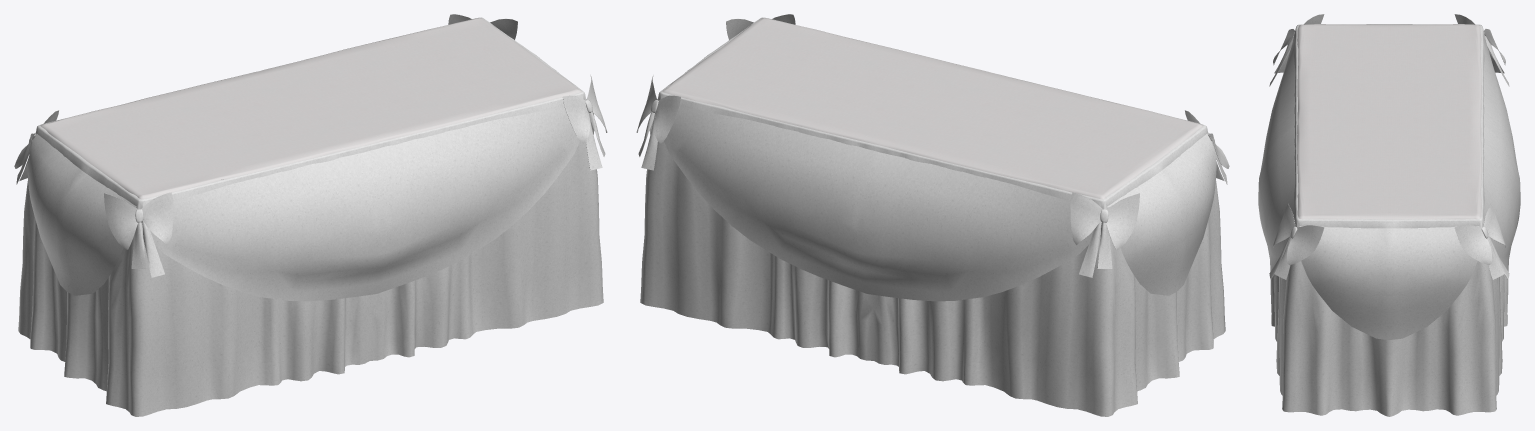
The model's file is EventTable01Cloth04_2.FBX.
The picture shows the model from 3 angles, left to right: view 1: azimuth 30°, elevation 25°; view 2: azimuth 150°, elevation 25°; view 3: azimuth 270°, elevation 25°; orthographic projection. The views are drawn at different scales.
Parts seen in each view (by area): view 1: EventTable01Cloth04_2; view 2: EventTable01Cloth04_2; view 3: EventTable01Cloth04_2.
Part boxes in pixels (<box>): EventTable01Cloth04_2: <box>14,14,607,416</box>; EventTable01Cloth04_2: <box>636,14,1229,416</box>; EventTable01Cloth04_2: <box>1258,14,1520,416</box>.
Size of what is drawn, in the model's own units: 2.25 by 0.9177 by 1.13.
